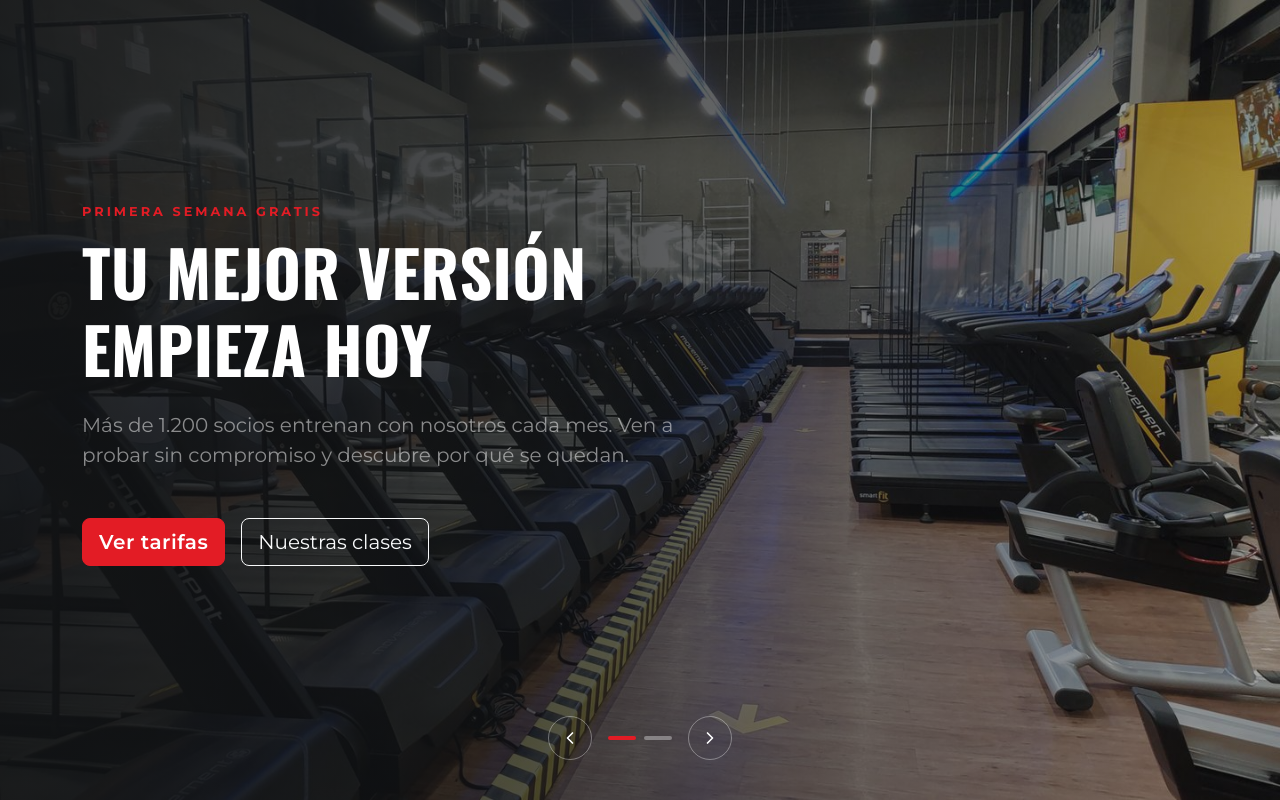
Hero › retrocede en circular al pulsar «Anterior» en el primero
The image size is (1280, 800).
Click the button named "anterior" at (570, 738), box 548,716 -> 592,760
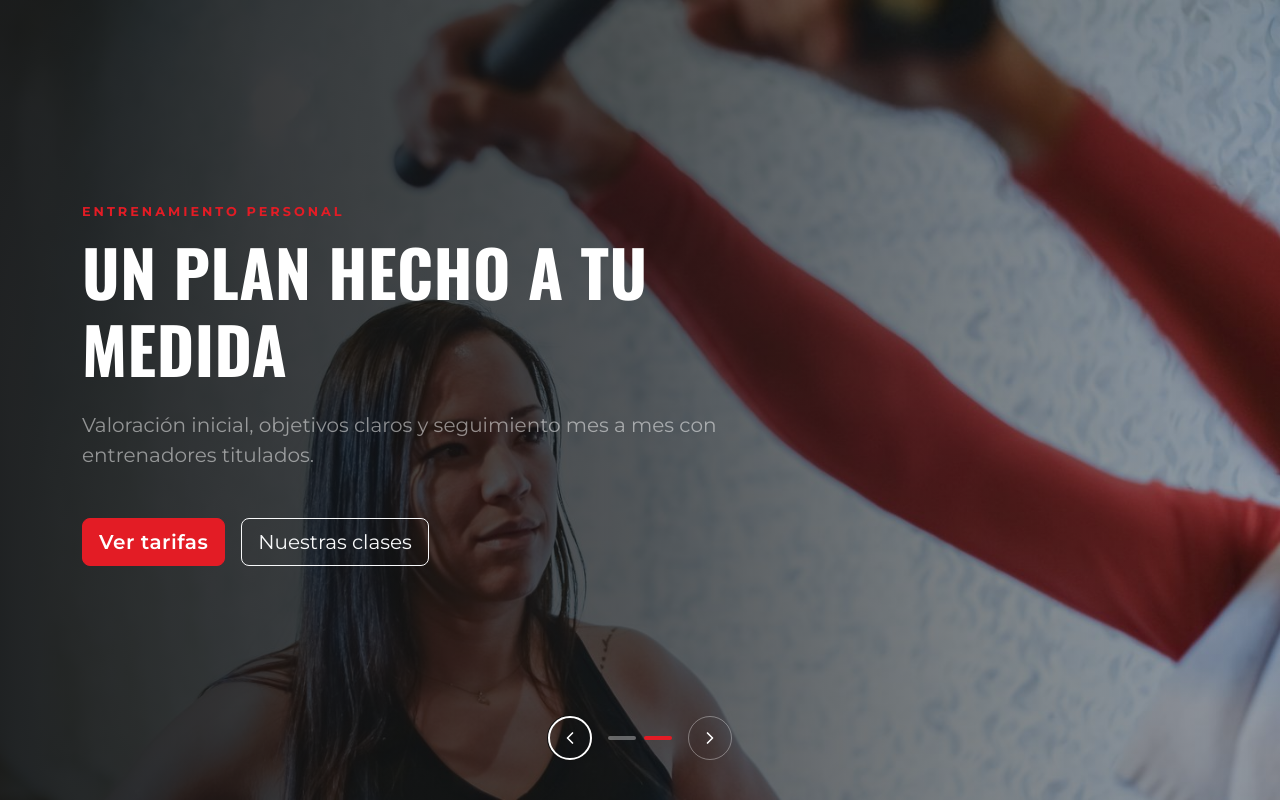
Result: the heading "Un plan hecho a tu medida" is shown at 82,233 -> 723,386
